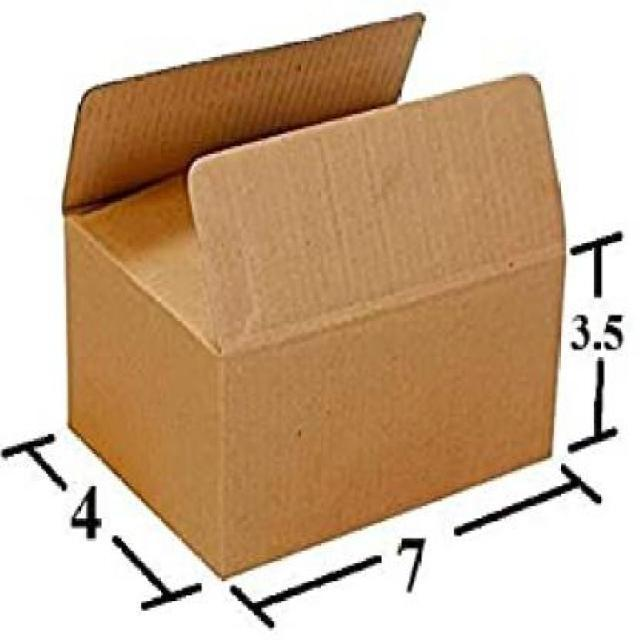box: (59, 12, 556, 580)
